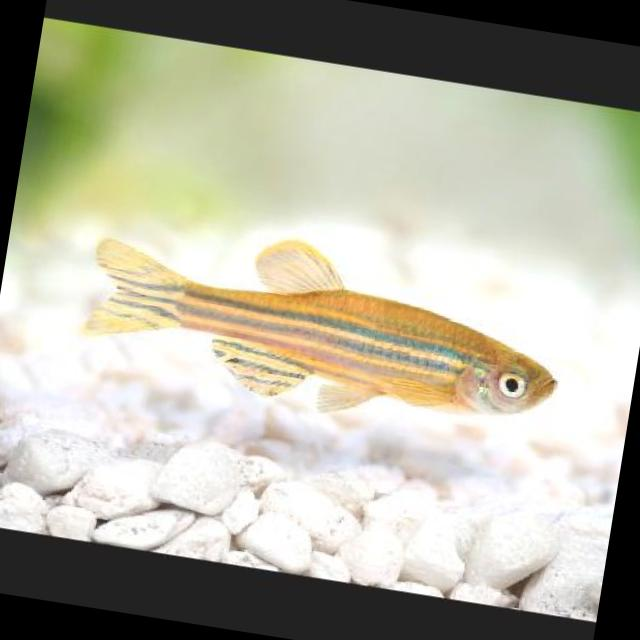ZebraFish: (69, 206, 573, 444)
